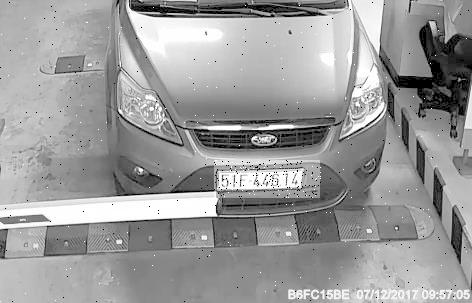License-plate: (216, 161, 323, 199)
